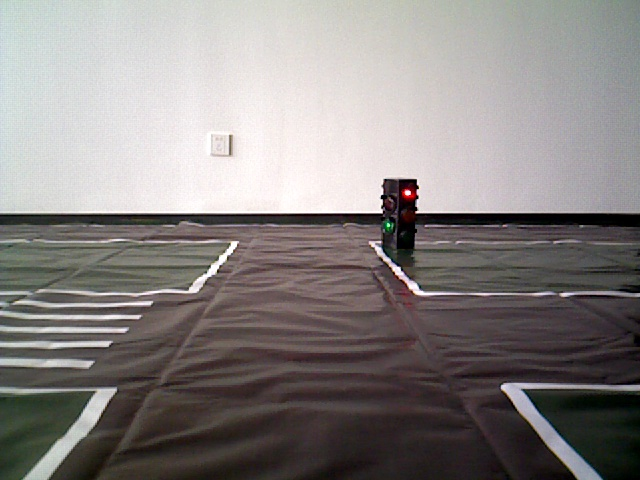red: (380, 181, 417, 254)
